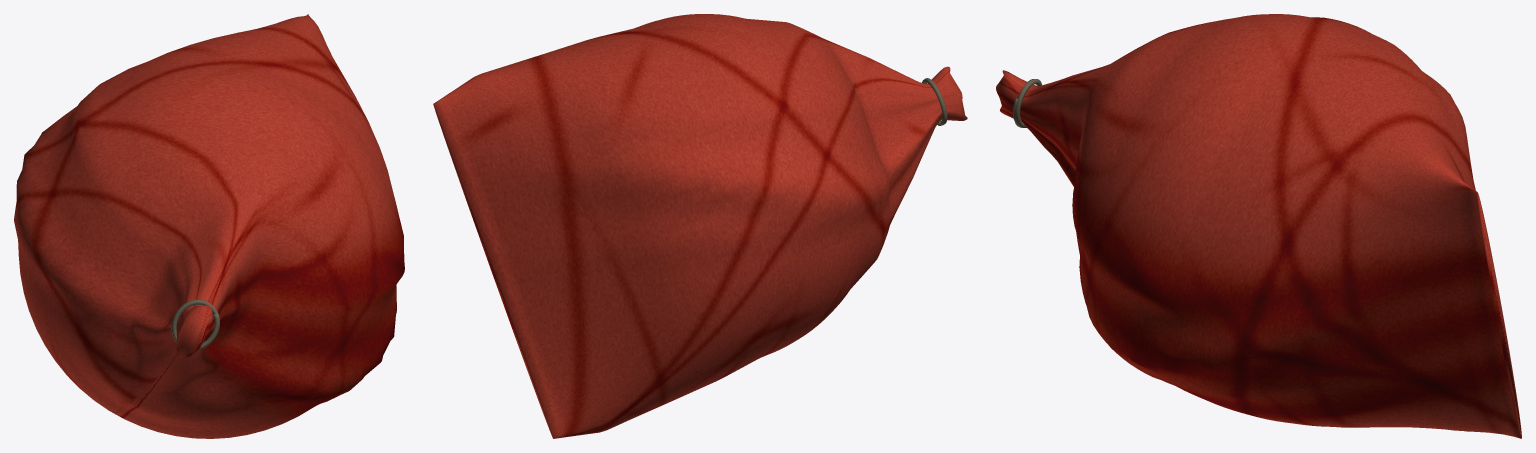
Rendered from peach_00_012.glb.
3 views of the same model, side by side, from view 1: azimuth 30°, elevation 25°; view 2: azimuth 150°, elevation 25°; view 3: azimuth 270°, elevation 25° (orthographic). The views are drawn at different scales.
Visible parts, largest first — view 1: export_Tree00/shoot2_4_1/bag, export_Tree00/shoot2_4_1/bag/tie; view 2: export_Tree00/shoot2_4_1/bag; view 3: export_Tree00/shoot2_4_1/bag.
Boxes of the visible parts, x1=… form: export_Tree00/shoot2_4_1/bag: x1=14, y1=14, x2=404, y2=438; export_Tree00/shoot2_4_1/bag/tie: x1=171, y1=299, x2=219, y2=350; export_Tree00/shoot2_4_1/bag: x1=433, y1=14, x2=967, y2=438; export_Tree00/shoot2_4_1/bag: x1=996, y1=14, x2=1521, y2=438.
Size of the model in its own units: 0.0979 by 0.0933 by 0.1153.
Materials: 4 (1 with a texture image).
